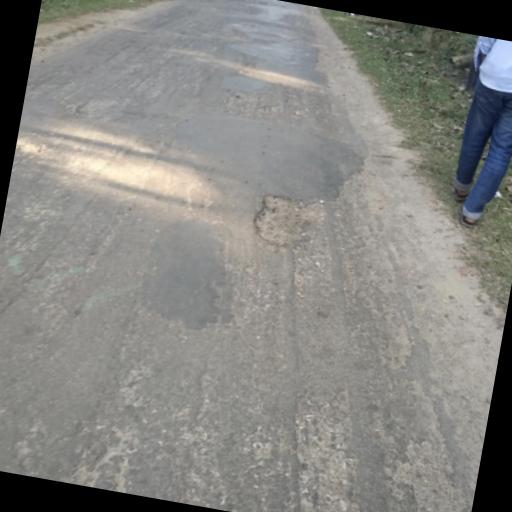pothole: (246, 186, 328, 258)
